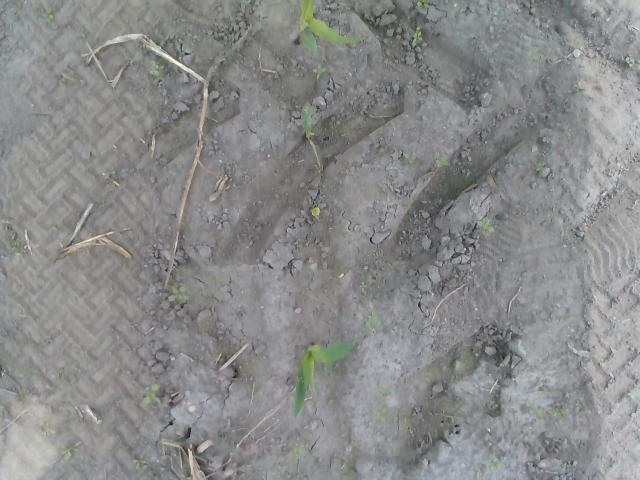Maize: (293, 336, 357, 417), (292, 0, 364, 53), (300, 104, 312, 142)
Weeds: (532, 405, 561, 423), (142, 382, 161, 406), (167, 284, 189, 302), (368, 386, 392, 398), (372, 404, 388, 422), (411, 24, 423, 48), (39, 7, 54, 25), (365, 311, 379, 330), (478, 220, 497, 234), (528, 47, 544, 60), (314, 64, 327, 80), (132, 455, 146, 469), (482, 459, 497, 472), (148, 63, 160, 76), (437, 154, 449, 166), (290, 446, 304, 456), (309, 206, 321, 217), (62, 448, 72, 460), (534, 162, 546, 172), (624, 55, 634, 65), (404, 154, 414, 164), (416, 0, 428, 8), (180, 474, 192, 480), (360, 282, 368, 290)
